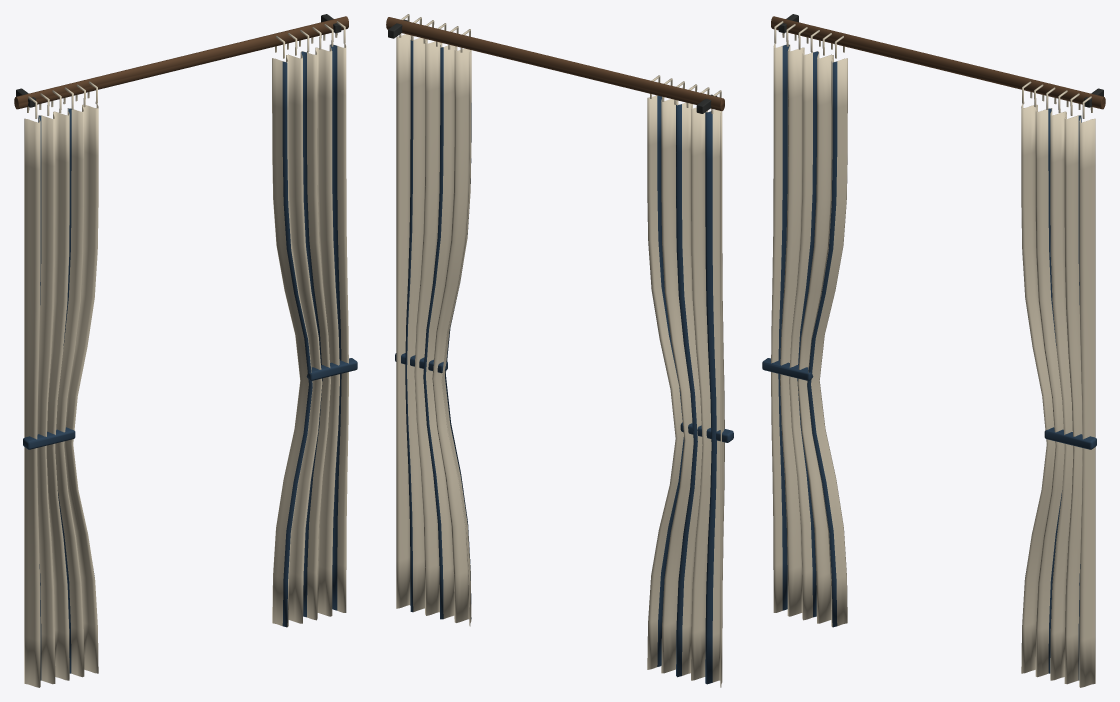
Rendered from kominka-curtain-long-01.glb.
3 views of the same model, side by side, from view 1: azimuth 30°, elevation 25°; view 2: azimuth 150°, elevation 25°; view 3: azimuth 330°, elevation 25° (orthographic).
Parts seen in each view (by area): view 1: kominka-curtain-long-01; view 2: kominka-curtain-long-01; view 3: kominka-curtain-long-01.
Boxes of the visible parts, x1,y1,x2,y2 form: kominka-curtain-long-01: [14, 14, 357, 687]; kominka-curtain-long-01: [386, 14, 733, 687]; kominka-curtain-long-01: [762, 14, 1105, 687].
Bounding box in the file's own units: 1.3 × 2.2 × 0.15.
